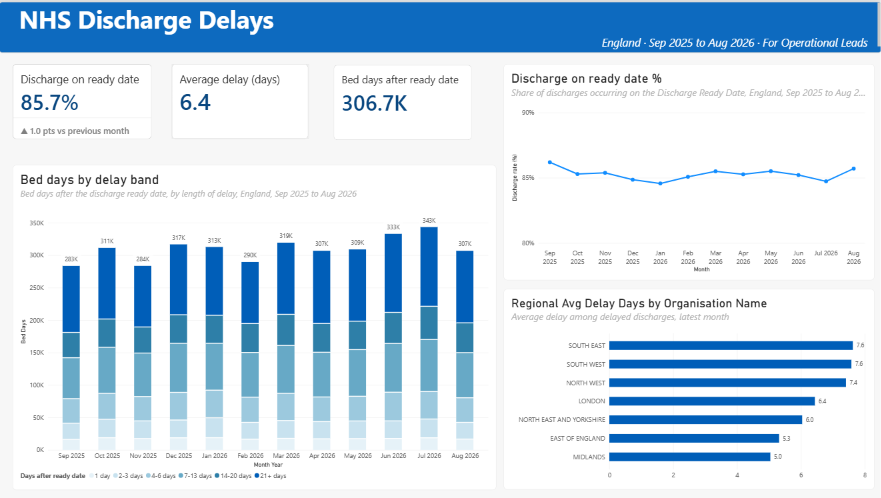

Layout of this report page (visuals, bound fields, positions):
{"tool":"powerbi","page":{"name":"Page 1","canvas":[1920,1080],"ordinal":0},"visuals":[{"type":"cardVisual","title":"Discharge on ready date %","fields":{"Data":["Calendar.Latest Same Day Discharge %"]},"box":[29.5,134,302.1,163.5],"z":0},{"type":"cardVisual","fields":{"Data":["Calendar.Latest Average Delay Days"]},"box":[376.1,134.8,297.8,163],"z":1000},{"type":"cardVisual","fields":{"Data":["Calendar.Latest Bed Days Lost"]},"box":[728.3,137,300,163],"z":2000},{"type":"lineChart","title":"Discharge on ready date %","fields":{"Category":["Calendar.Month Year"],"Y":["Calendar.Latest Same Day Discharge %"]},"box":[1097,134,806.3,470.2],"z":3000},{"type":"lineStackedColumnComboChart","title":"Bed days by delay band","fields":{"Category":["Calendar.Month Year"],"Series":["NHS Data.Band Label"],"Y":["Sum(NHS Data.Value)"]},"box":[29.5,354.3,1051.6,706.4],"z":4000},{"type":"barChart","fields":{"Category":["NHS Data.Organisation Name"],"Y":["Calendar.Regional Avg Delay Days"]},"box":[1097,624.6,806.3,436.1],"z":5000},{"type":"textbox","box":[0,0,1920,110],"z":6000}]}

Visuals, with their boxes in screenshot pixels (x1, y1, x2, y2), scaled from the page's 1920x1080 canvas onto the 881x498 screenshot:
"Discharge on ready date %" cardVisual: box(14, 62, 152, 137)
cardVisual - Calendar.Latest Average Delay Days: box(173, 62, 309, 137)
cardVisual - Calendar.Latest Bed Days Lost: box(334, 63, 472, 138)
"Discharge on ready date %" lineChart: box(503, 62, 873, 279)
"Bed days by delay band" lineStackedColumnComboChart: box(14, 163, 496, 489)
barChart - NHS Data.Organisation Name x Calendar.Regional Avg Delay Days: box(503, 288, 873, 489)
textbox: box(0, 0, 880, 51)
